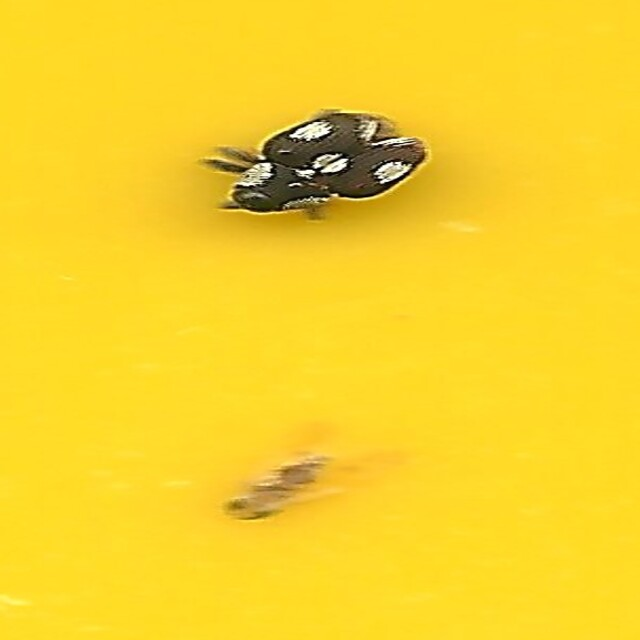Coleoptera: (211, 111, 429, 222)
Hemiptera: (220, 421, 410, 529)
